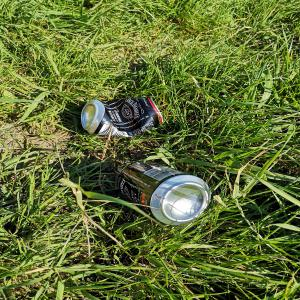Can: (113, 161, 213, 227), (82, 97, 166, 139)
